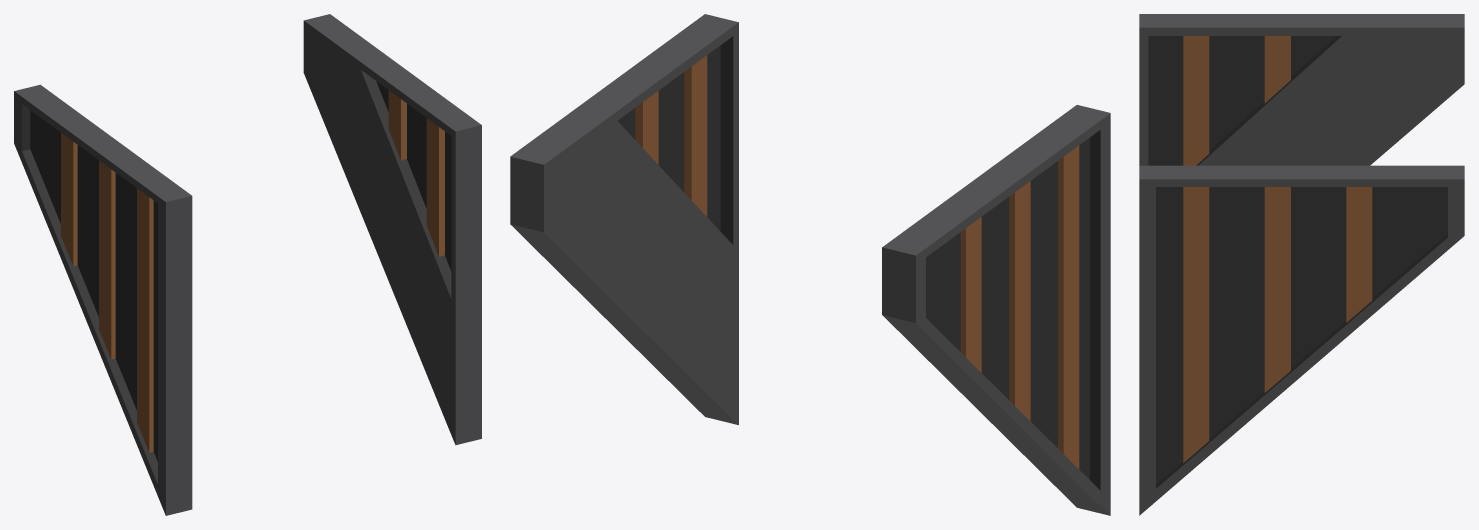
The model's file is Stair Walls Textured.fbx.
3 views of the same model, side by side, from view 1: azimuth 30°, elevation 25°; view 2: azimuth 150°, elevation 25°; view 3: azimuth 270°, elevation 25° (orthographic). The views are drawn at different scales.
Visible parts, largest first — view 1: Stair_Walls; view 2: Stair_Walls; view 3: Stair_Walls.
Boxes of the visible parts, x1,y1,x2,y2 form: Stair_Walls: (14, 14, 481, 515); Stair_Walls: (510, 14, 1110, 515); Stair_Walls: (1139, 14, 1464, 515).
Size of the model in its own units: 12 by 11.39 by 9.98.
